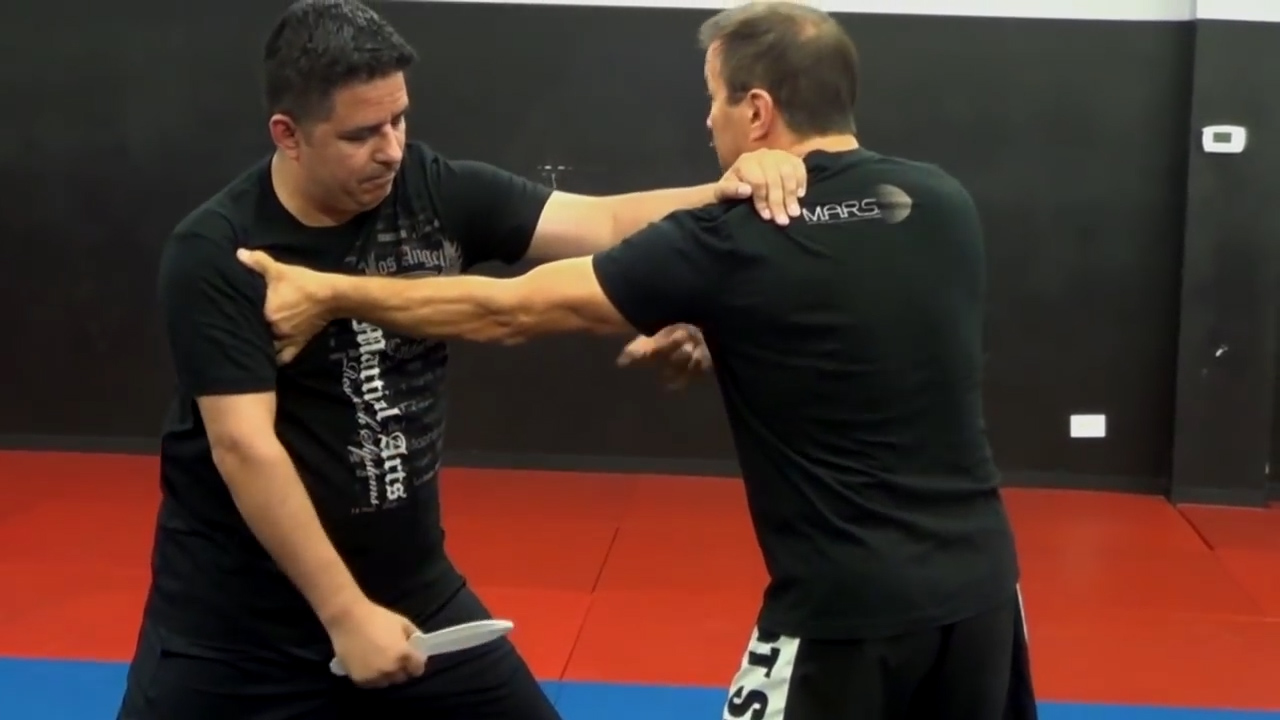knife: (326, 608, 523, 688)
